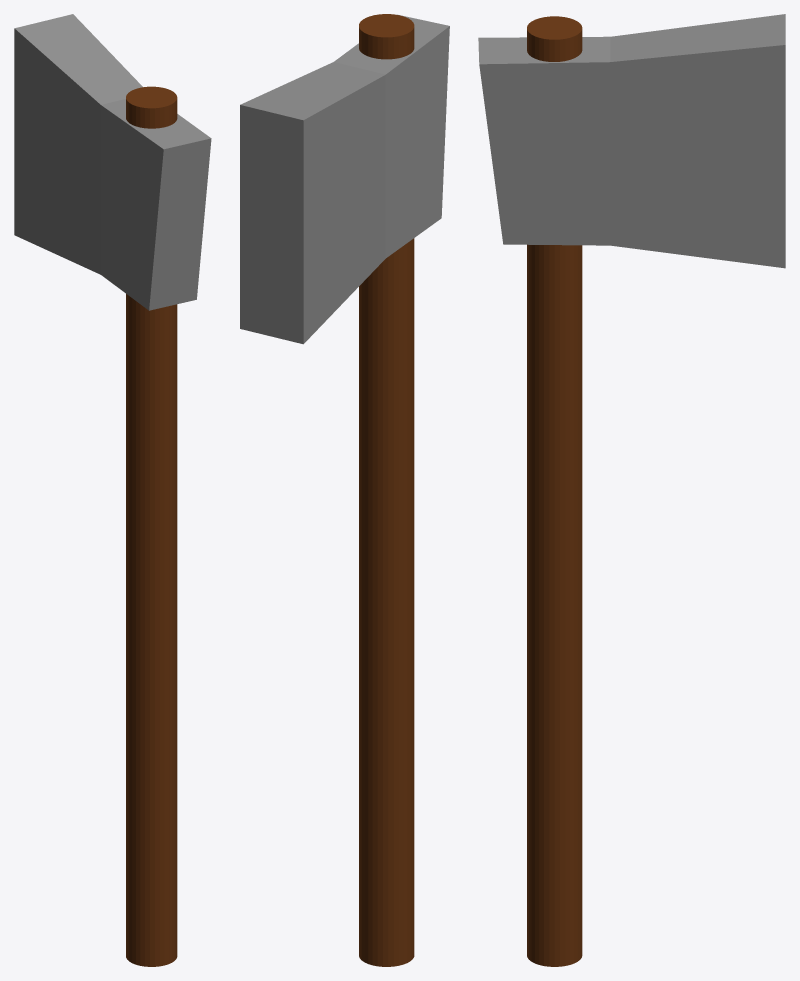
File: Axe.fbx
3 views of the same model, side by side, from view 1: azimuth 30°, elevation 25°; view 2: azimuth 150°, elevation 25°; view 3: azimuth 270°, elevation 25° (orthographic). The views are drawn at different scales.
Parts seen in each view (by area): view 1: Cube; view 2: Cube; view 3: Cube.
Boxes of the visible parts, <box> form: Cube: <box>14,14,211,966</box>; Cube: <box>240,14,449,966</box>; Cube: <box>478,14,785,966</box>.
Bounding box in the file's own units: 0.8316 × 3.49 × 11.63.
